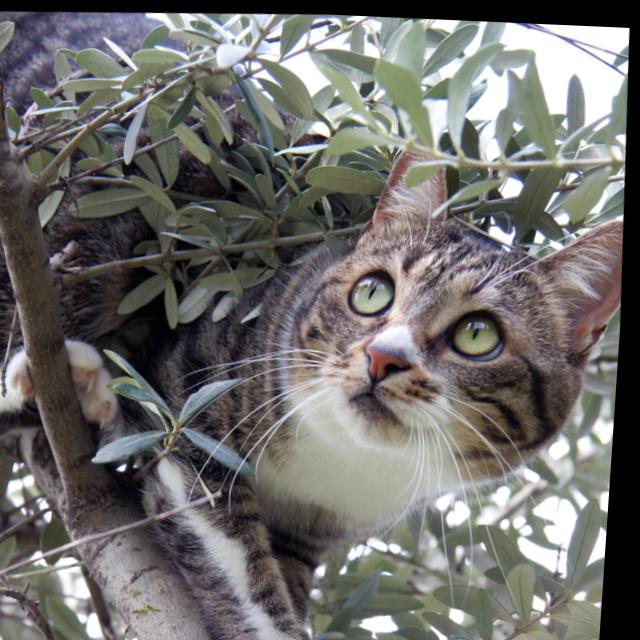animals: (342, 109, 635, 383)
